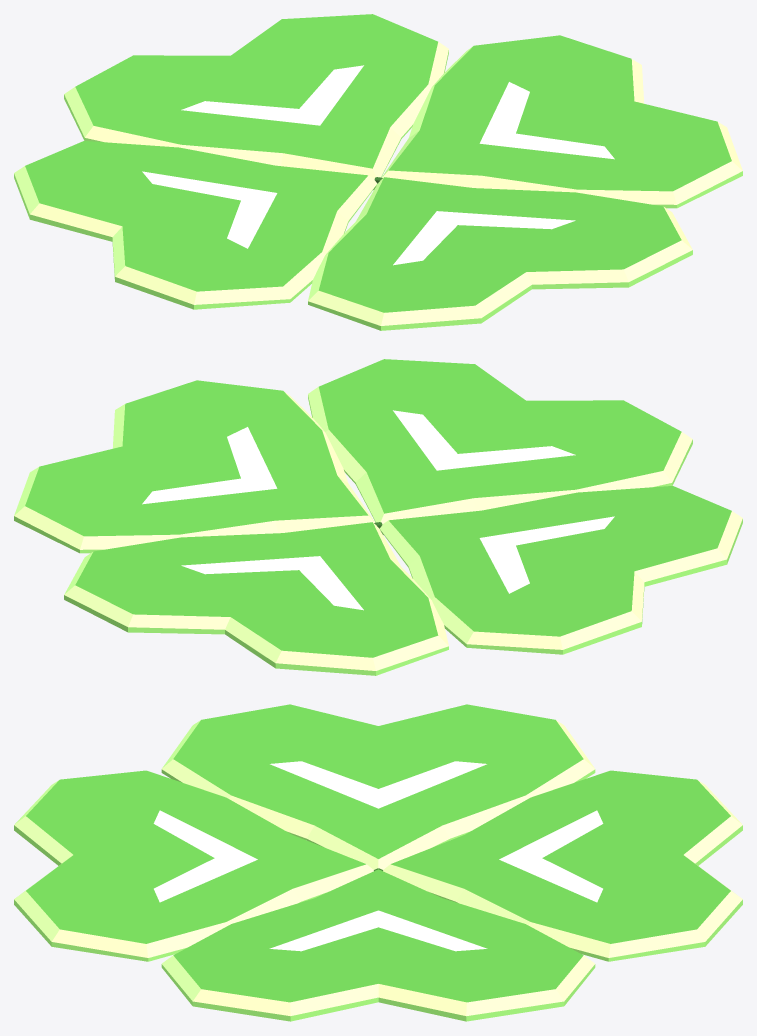
The model's file is clover-four.glb.
3 renders of one model, top to bottom at view 1: azimuth 30°, elevation 25°; view 2: azimuth 150°, elevation 25°; view 3: azimuth 270°, elevation 25°, orthographic. The views are drawn at different scales.
Parts seen in each view (by area): view 1: clover-four; view 2: clover-four; view 3: clover-four.
Boxes of the visible parts, x1,y1,x2,y2 form: clover-four: [14, 14, 742, 330]; clover-four: [14, 359, 742, 675]; clover-four: [14, 704, 742, 1021].
Bounding box in the file's own units: 8 × 1.2 × 8.
